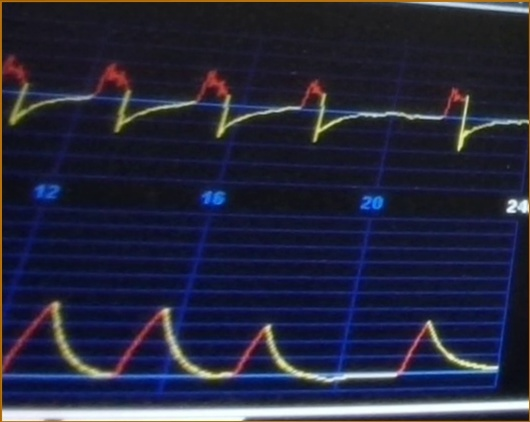Accumulation Flow: (2, 36, 513, 180)
Volume: (3, 268, 494, 389)
